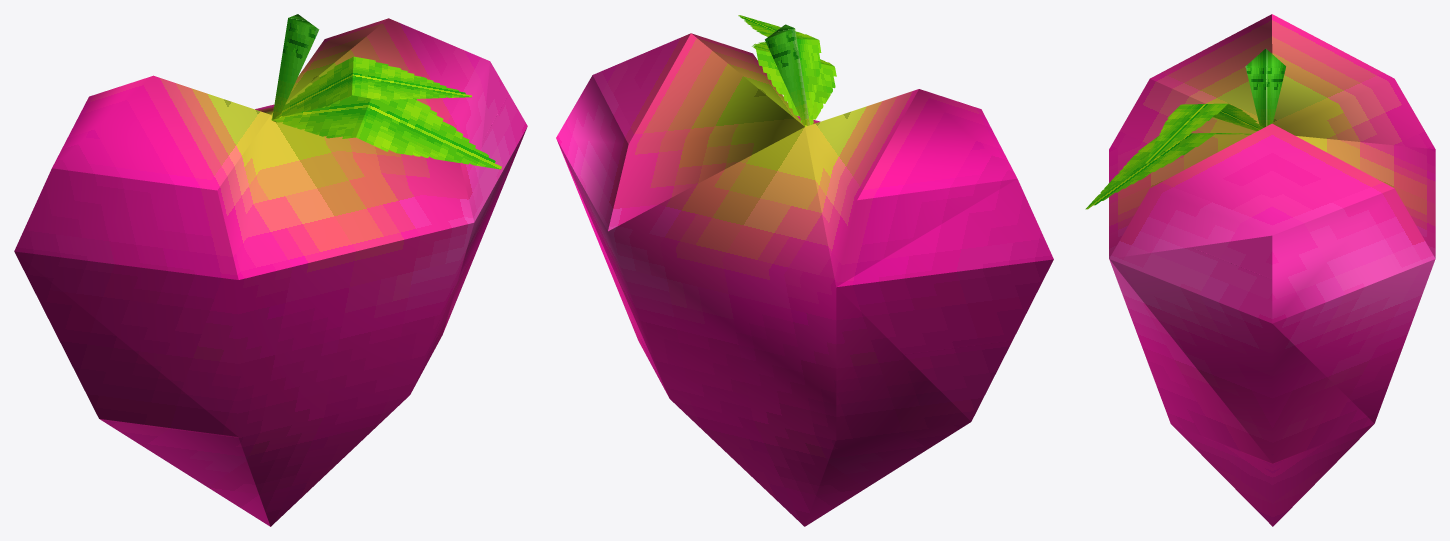
The model's file is Heart Fruit.obj.
3 renders of one model, left to right at view 1: azimuth 30°, elevation 25°; view 2: azimuth 150°, elevation 25°; view 3: azimuth 270°, elevation 25°, orthographic. The views are drawn at different scales.
Visible parts, largest first — view 1: Mesh_0120; view 2: Mesh_0120; view 3: Mesh_0120.
Boxes of the visible parts, <box> form: Mesh_0120: <box>14,14,527,526</box>; Mesh_0120: <box>556,15,1053,526</box>; Mesh_0120: <box>1085,14,1435,526</box>.
Bounding box in the file's own units: 2.71 × 2.56 × 1.69.
Materials: 3 (3 with a texture image).
